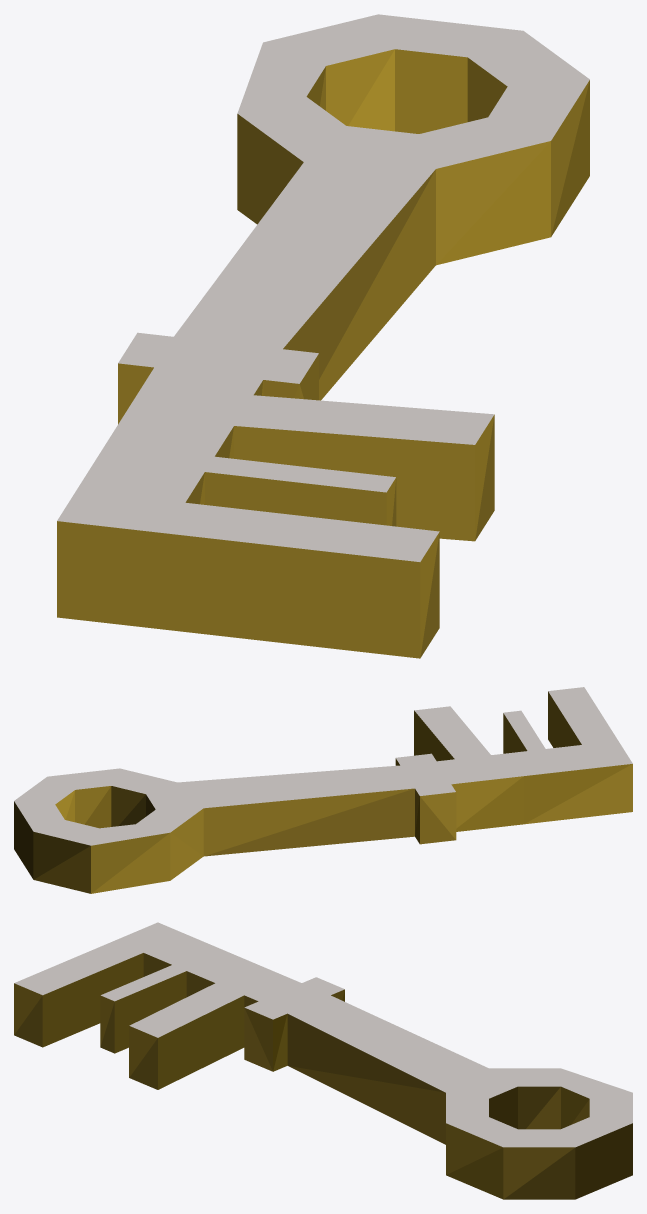
File: key.fbx
3 views of the same model, one above another, from view 1: azimuth 30°, elevation 25°; view 2: azimuth 150°, elevation 25°; view 3: azimuth 270°, elevation 25° (orthographic). The views are drawn at different scales.
Parts seen in each view (by area): view 1: Item Brass key 2024-03-31_14-55-42; view 2: Item Brass key 2024-03-31_14-55-42; view 3: Item Brass key 2024-03-31_14-55-42.
Part boxes in pixels (bbox=[...]): Item Brass key 2024-03-31_14-55-42: bbox=[57, 14, 589, 658]; Item Brass key 2024-03-31_14-55-42: bbox=[14, 687, 632, 893]; Item Brass key 2024-03-31_14-55-42: bbox=[14, 922, 632, 1199].
Bounding box in the file's own units: 3700 × 400 × 4300.
